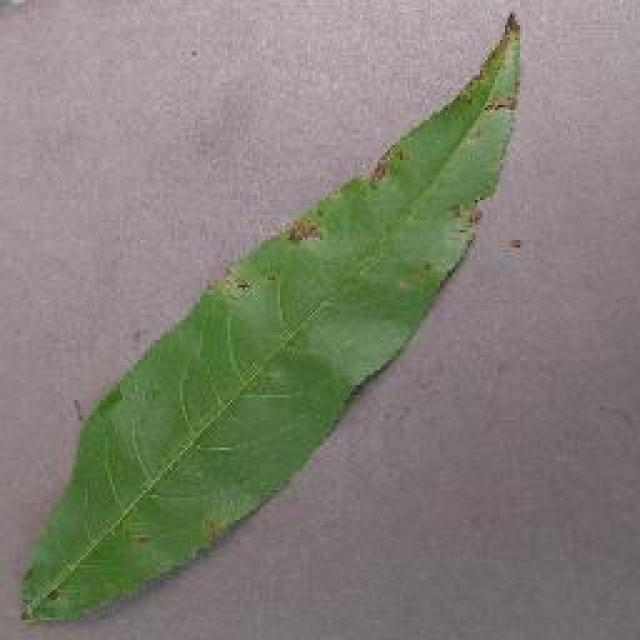Peach_Bacterial_Spot: (247, 155, 470, 320)
